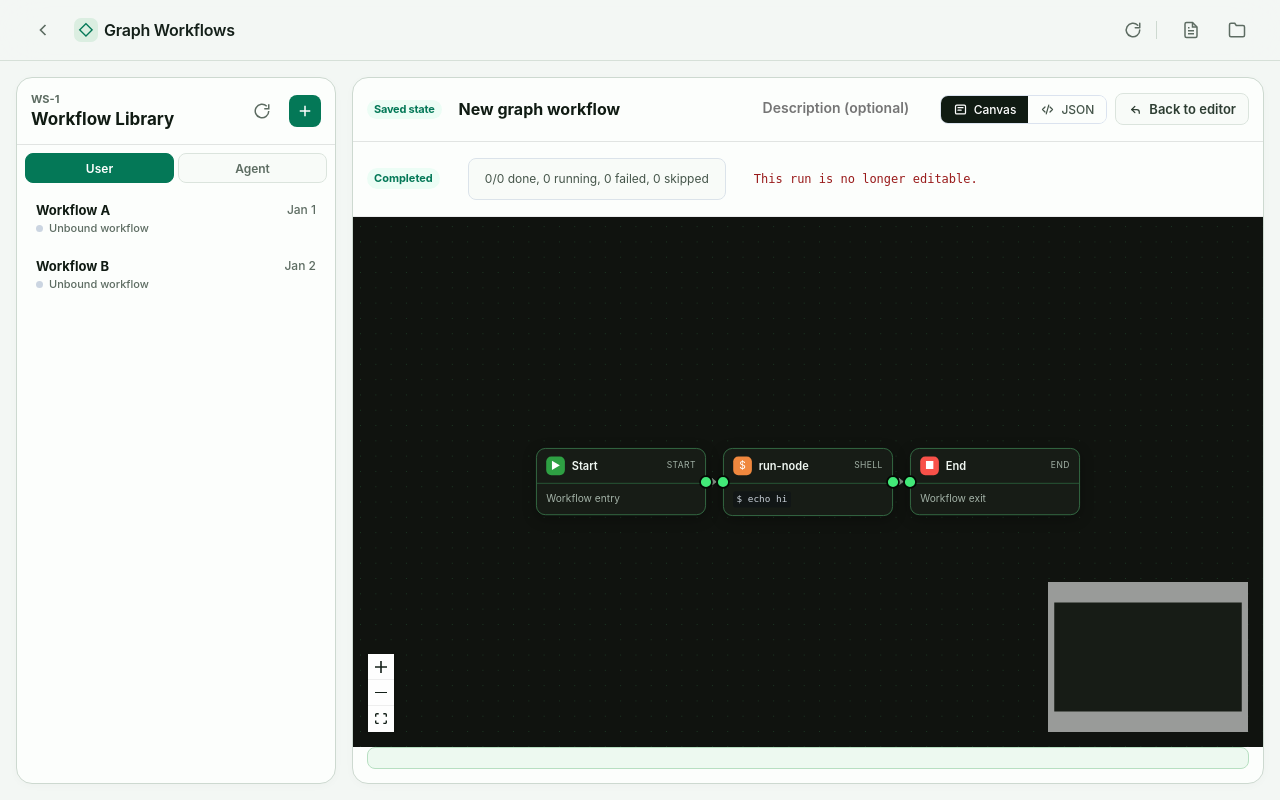
Test case: GraphWorkflowPage run view › clears runMessage when exiting run replay
The image size is (1280, 800).
Expected: the text with test id "graph-run-strip-message" reads "This run is no longer editable.", [754, 172, 978, 186]
Click the button with test id "graph-exit-run" at {"x": 1182, "y": 109}, box [1115, 93, 1249, 125]
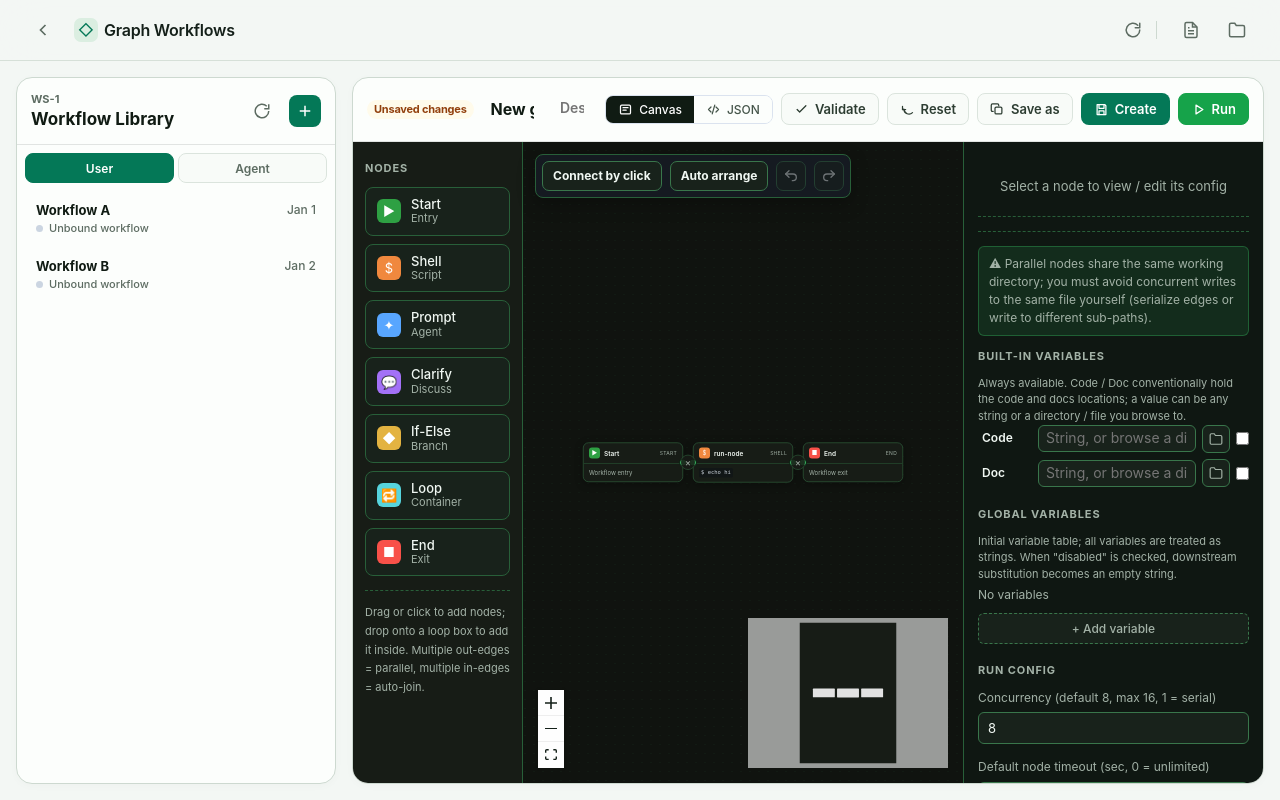
Expected: the text with test id "graph-run-strip-status" is gone
